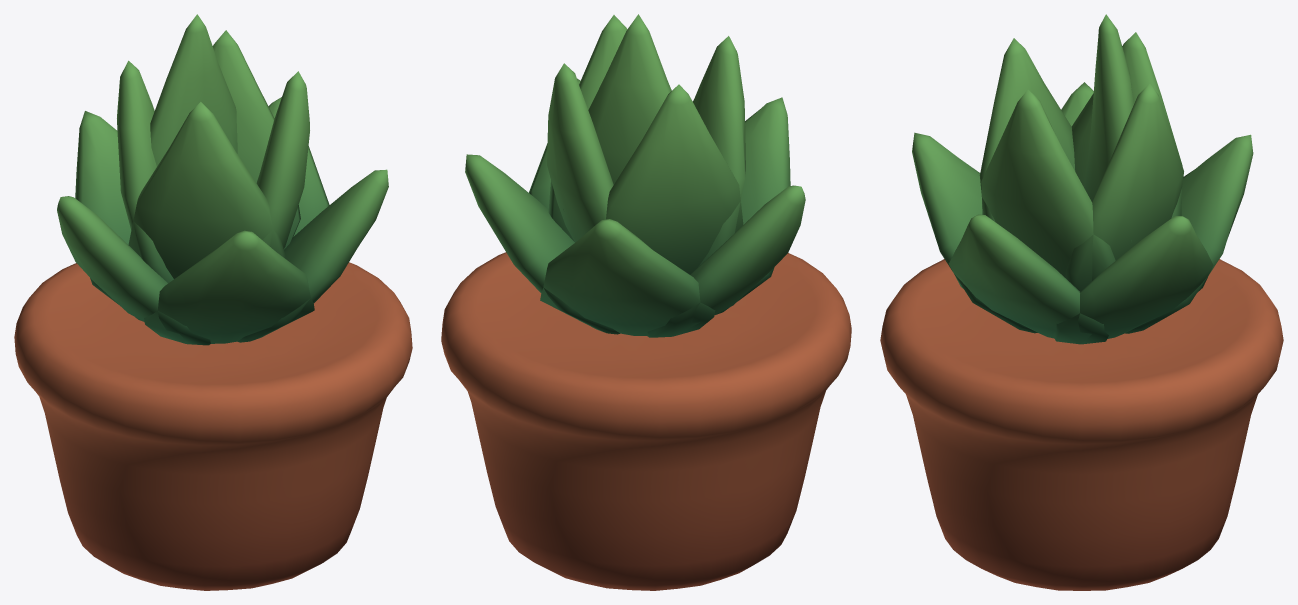
File: potted_plant.glb
3 renders of one model, left to right at view 1: azimuth 30°, elevation 25°; view 2: azimuth 150°, elevation 25°; view 3: azimuth 270°, elevation 25°, orthographic. The views are drawn at different scales.
Parts seen in each view (by area): view 1: potted_plant; view 2: potted_plant; view 3: potted_plant.
Boxes of the visible parts, bbox=[...] form: potted_plant: bbox=[14, 14, 412, 590]; potted_plant: bbox=[441, 14, 851, 590]; potted_plant: bbox=[880, 14, 1283, 590].
Bounding box in the file's own units: 0.4138 × 0.6 × 0.4138.
